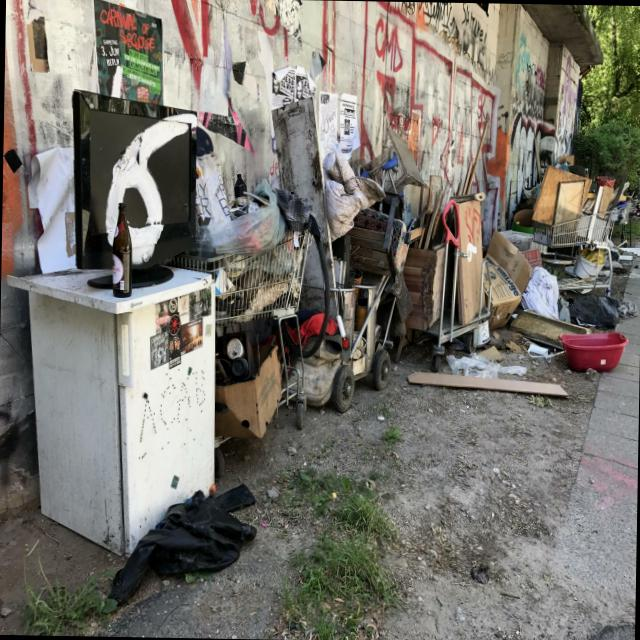garbage: (0, 94, 609, 554)
